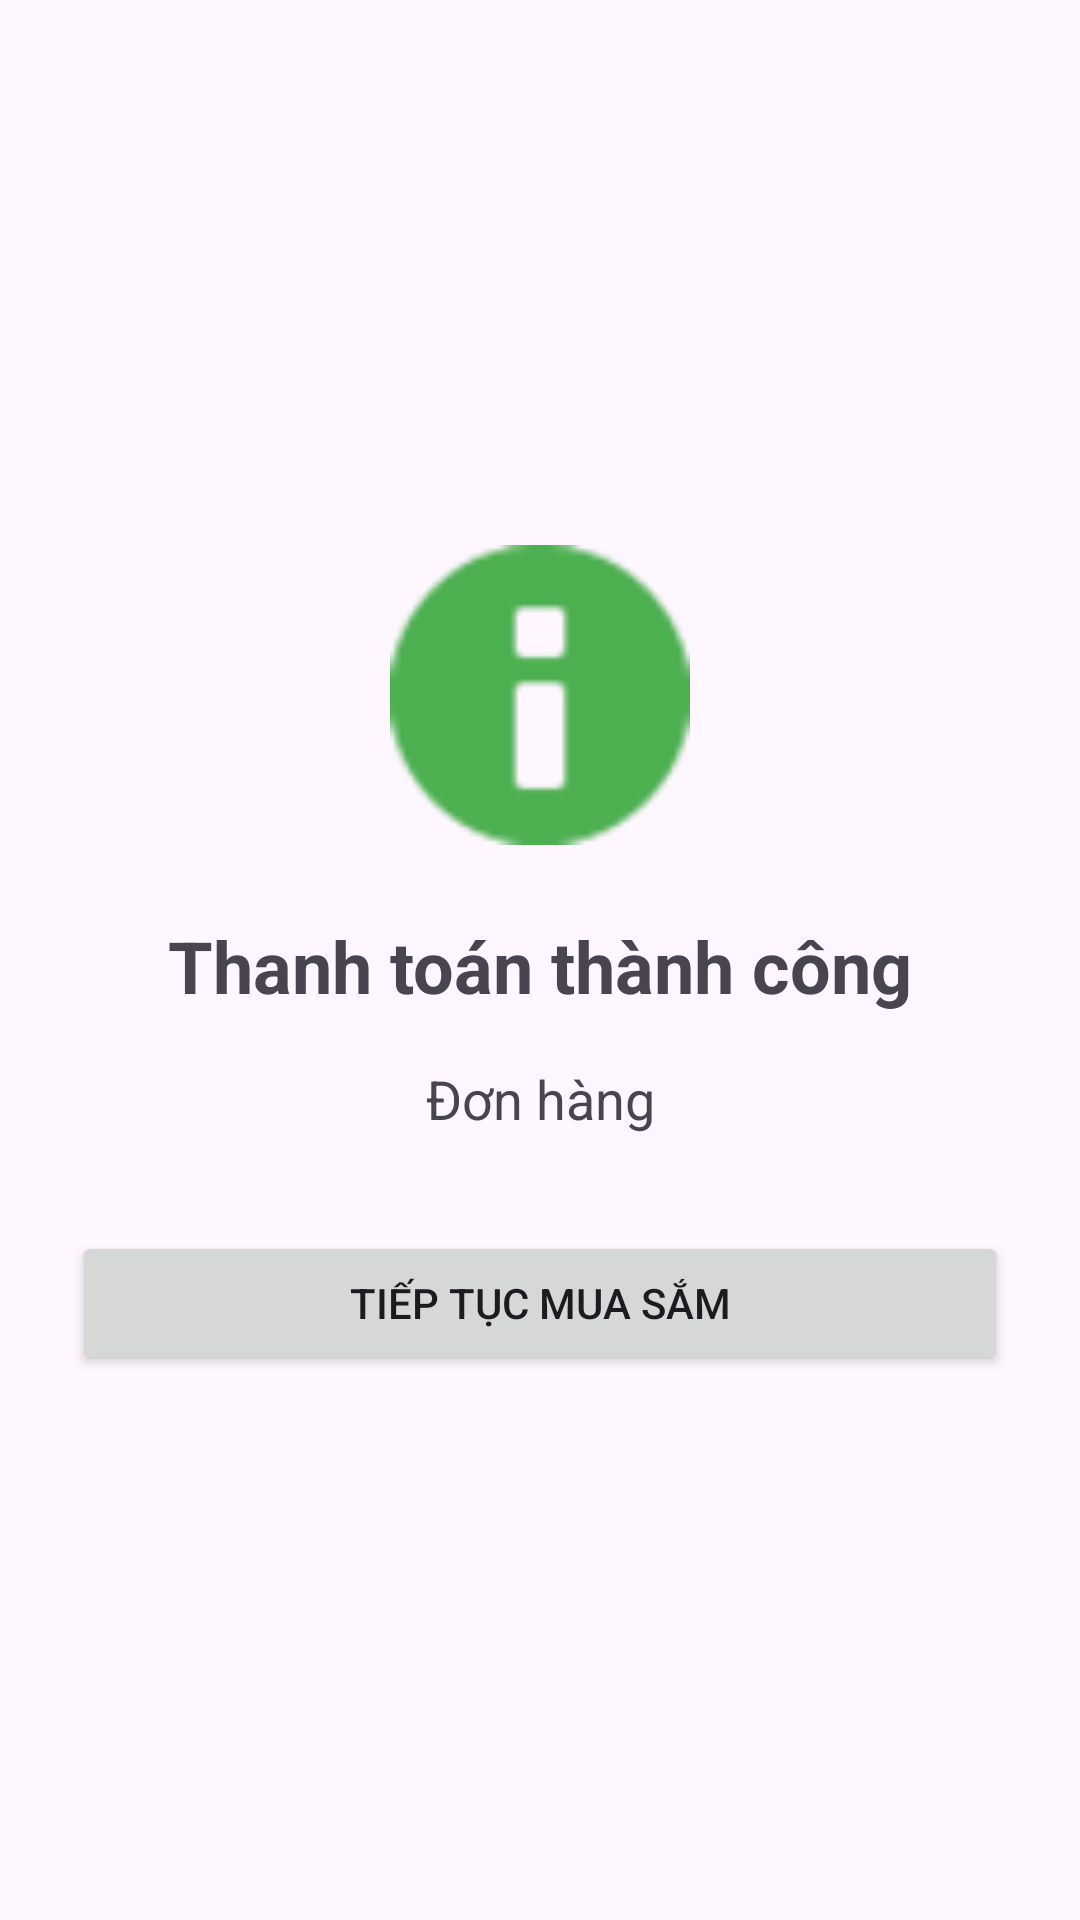

Icon click points for this 1080*1920 phone screenshot, format point (x, y):
info: point (540, 695)
